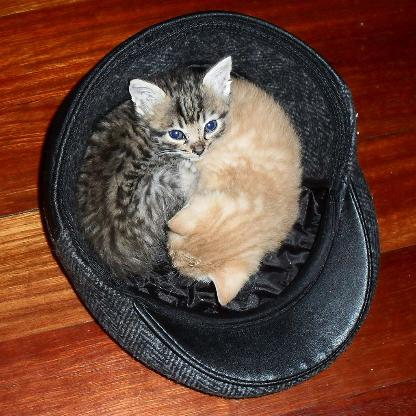Cat: (164, 72, 306, 308)
